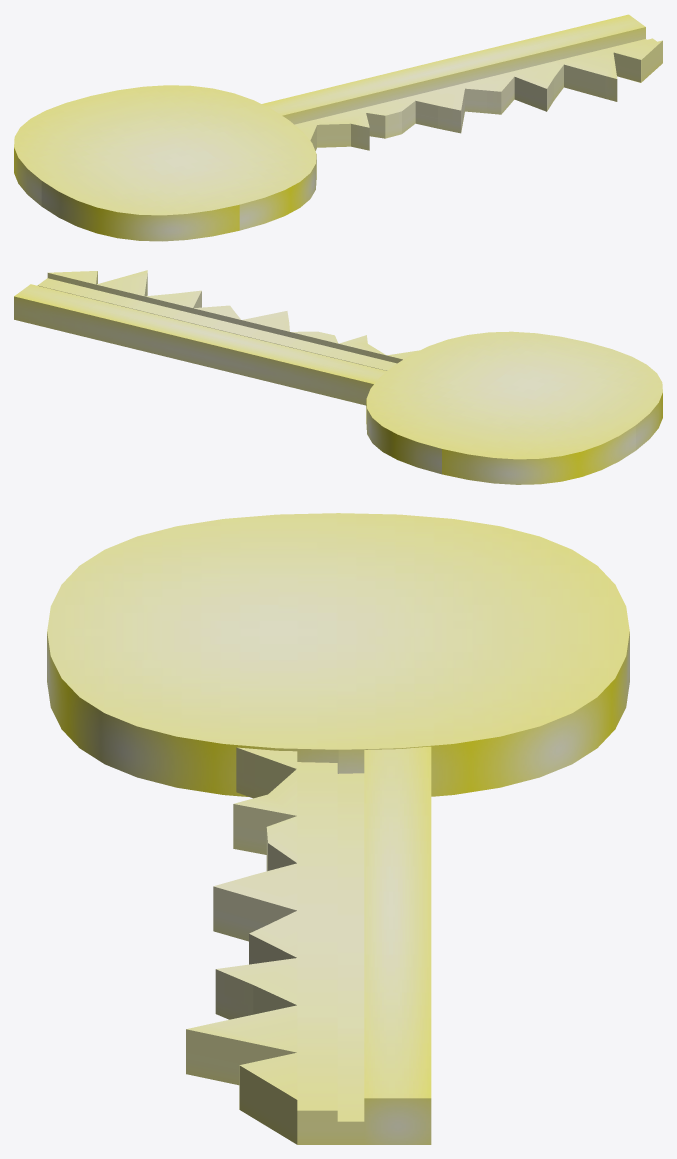
File: Key.FBX
3 renders of one model, top to bottom at view 1: azimuth 30°, elevation 25°; view 2: azimuth 150°, elevation 25°; view 3: azimuth 270°, elevation 25°, orthographic. The views are drawn at different scales.
Parts seen in each view (by area): view 1: Box001, Box002; view 2: Box001, Box002; view 3: Box001, Box002.
Part boxes in pixels (<box>): Box001: <box>14,85,316,241</box>; Box002: <box>262,14,662,150</box>; Box001: <box>366,331,662,484</box>; Box002: <box>14,270,419,405</box>; Box001: <box>47,513,629,796</box>; Box002: <box>186,746,431,1144</box>.
Bounding box in the file's own units: 10.32 × 0.4204 × 4.35.
Materials: 1 (1 with a texture image).
